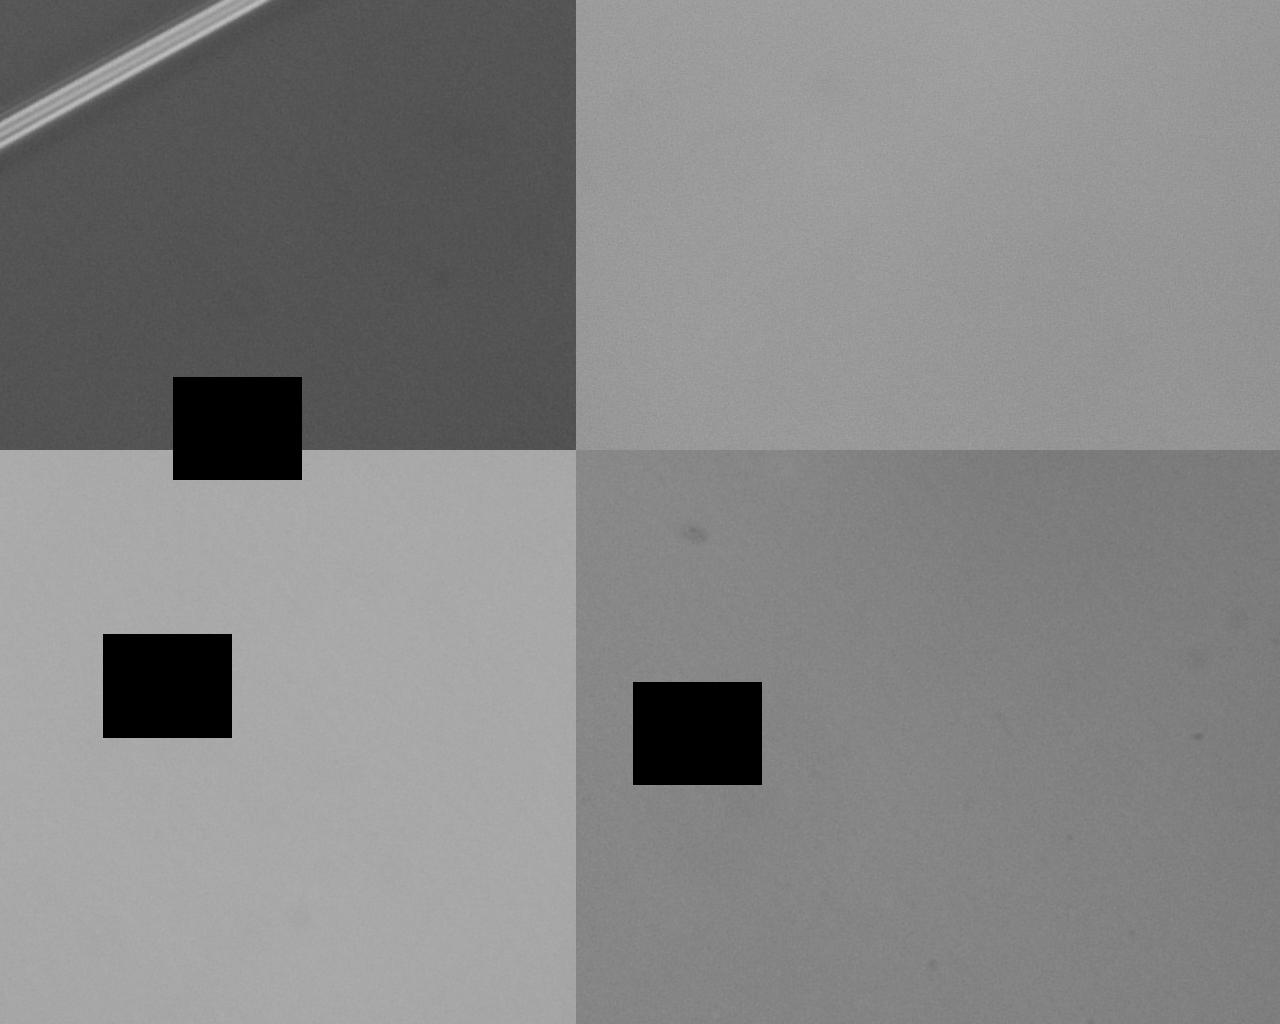fiber: (409, 16, 1280, 501), (679, 501, 755, 1024), (136, 501, 209, 1024)
